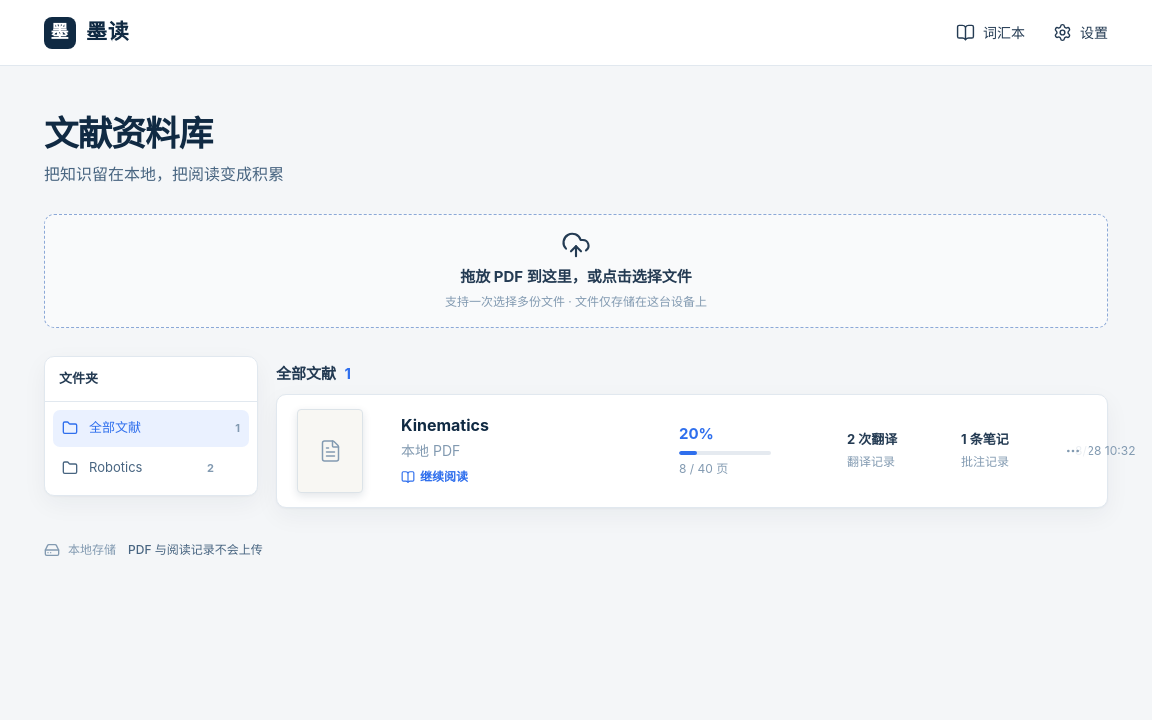
it: LibraryScreen › closes an expanded more menu when the user clicks elsewhere
Click the button named "更多操作：Kinematics": coordinates (1073, 451) [1057,435,1089,467]
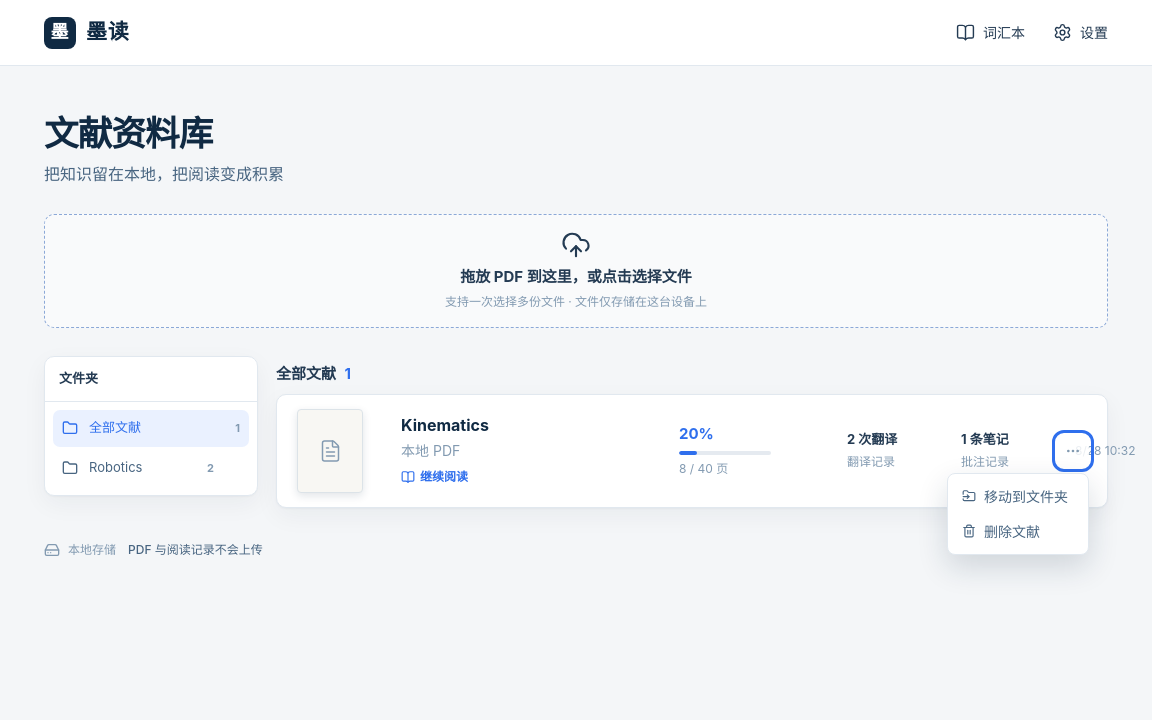
Expected: the menu item "删除文献" is shown, [953,514,1083,549]
Click the heading "文献资料库": coordinates (128, 134) [44,113,212,154]
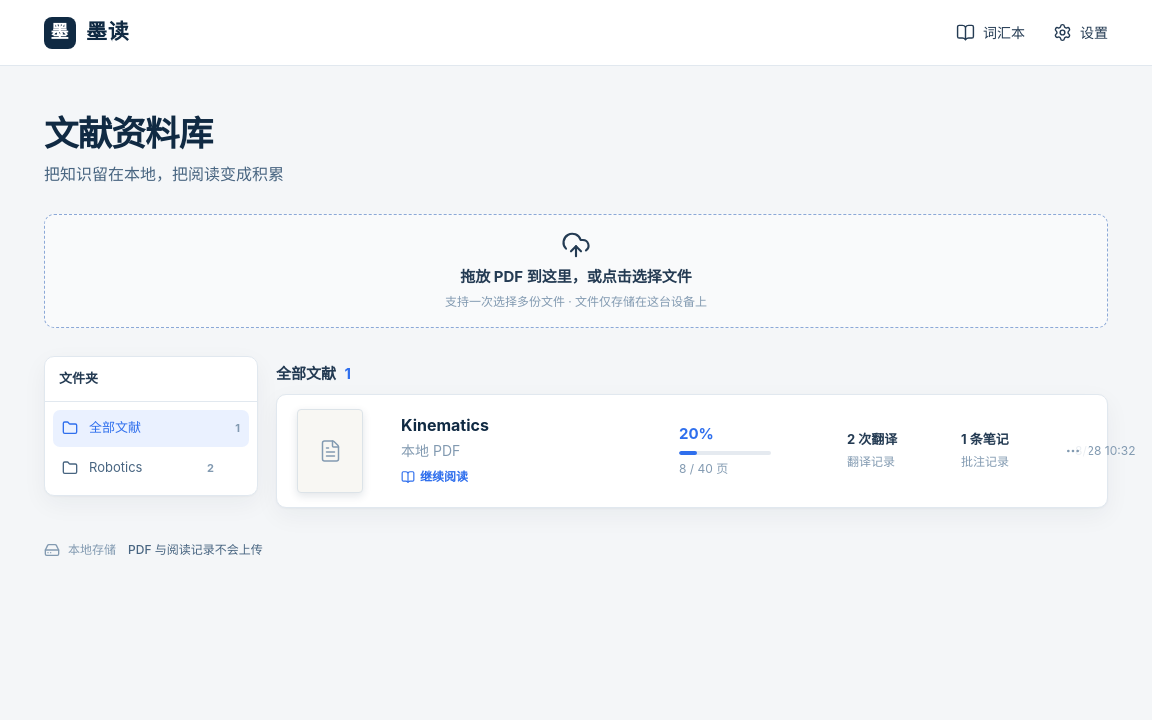
Expected: the menu item "删除文献" is gone
